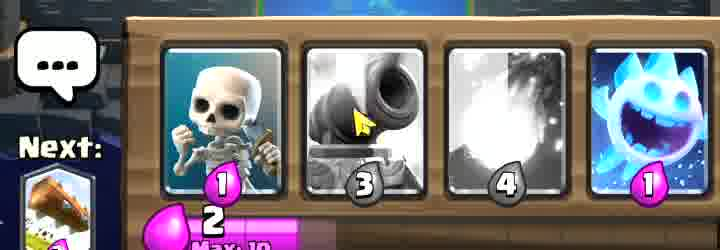cannon: (355, 51, 431, 182), (305, 52, 370, 159)
ice-spirit: (595, 45, 710, 200)
log: (24, 168, 92, 250)
